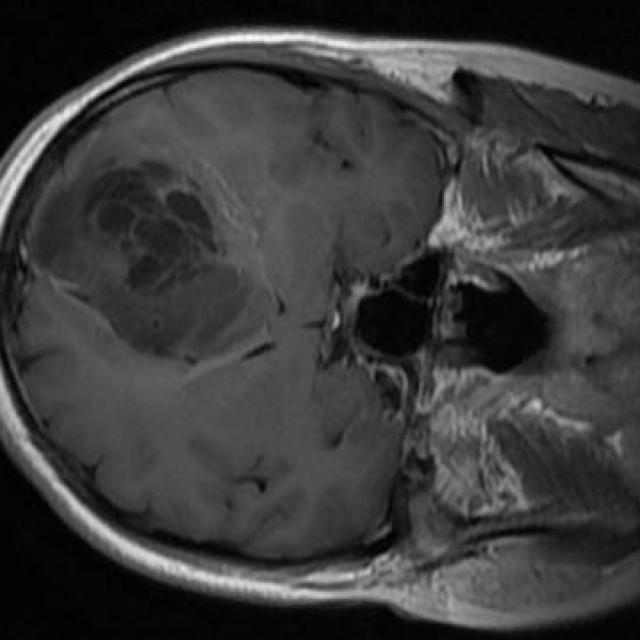glioma: (34, 157, 264, 364)
